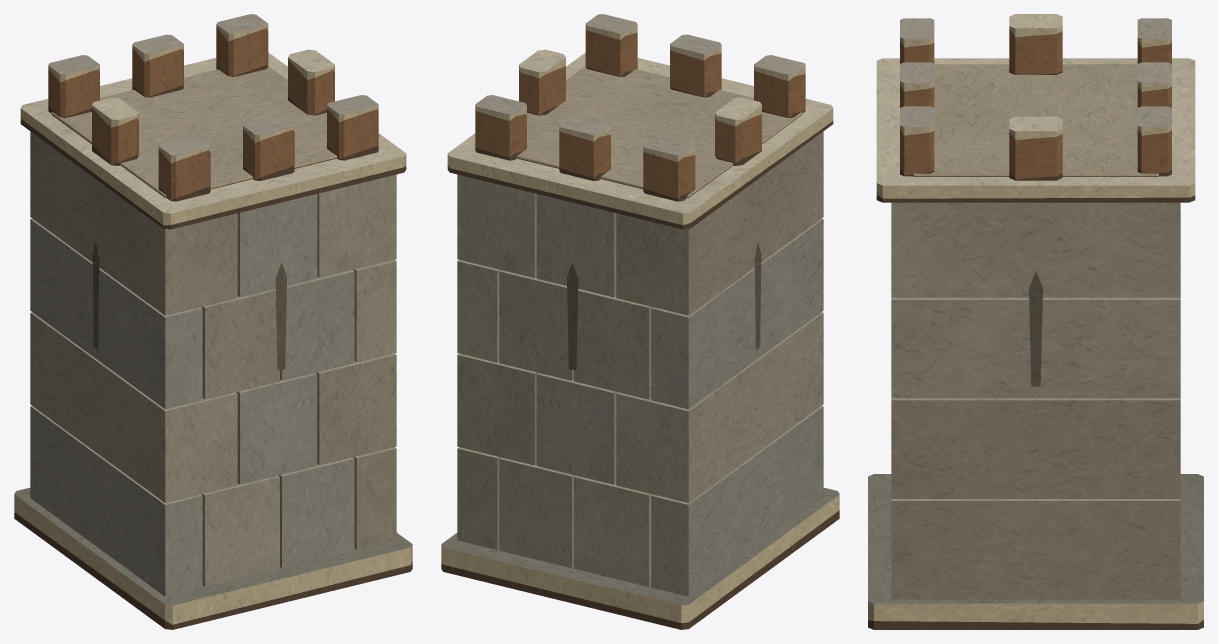
Rendered from torre.glb.
The picture shows the model from 3 angles, left to right: view 1: azimuth 30°, elevation 25°; view 2: azimuth 150°, elevation 25°; view 3: azimuth 270°, elevation 25°; orthographic projection. The views are drawn at different scales.
Parts seen in each view (by area): view 1: torre; view 2: torre; view 3: torre.
Part boxes in pixels (x1=…): torre: x1=14, y1=14, x2=412, y2=629; torre: x1=441, y1=14, x2=839, y2=629; torre: x1=868, y1=14, x2=1203, y2=629.
Size of the model in its own units: 5.19 by 9.19 by 5.68.
1 material, 1 textured.
